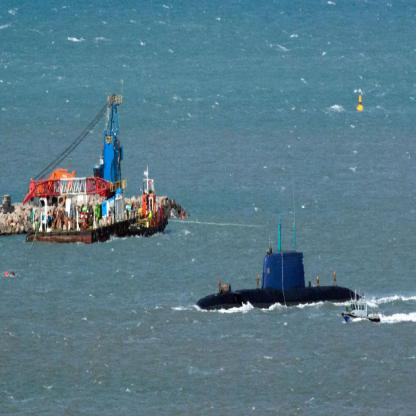Patrol Boat: (340, 288, 382, 324)
Submarine: (191, 216, 364, 312)
